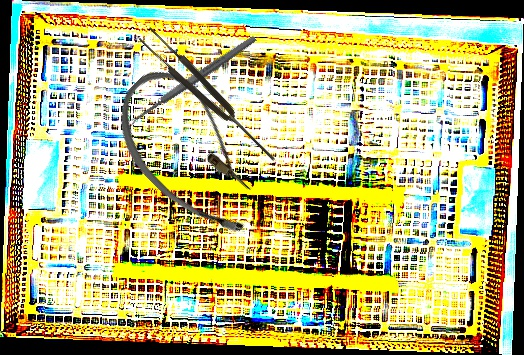Cannula: (94, 55, 289, 251)
Surgical Spoon: (120, 33, 258, 132)
Tissue Forceps: (136, 24, 282, 169)
